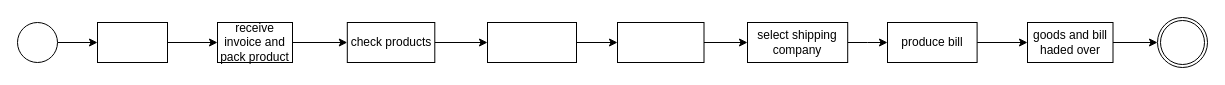
This 1225x85 diagram has some shape labels left out. The centre of each missing label's shape, as x and y in pixels:
"deliver note and invoice" belongs at (x=531, y=42).
"negotiation for best company" belongs at (x=660, y=42).
"receive products" belongs at (x=132, y=42).
